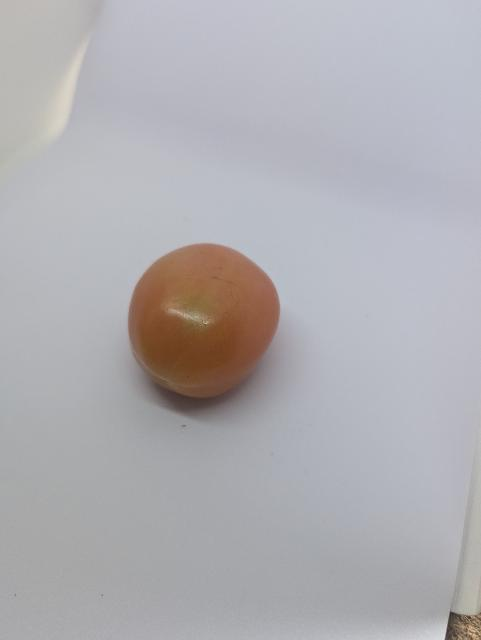turning: (119, 237, 283, 399)
